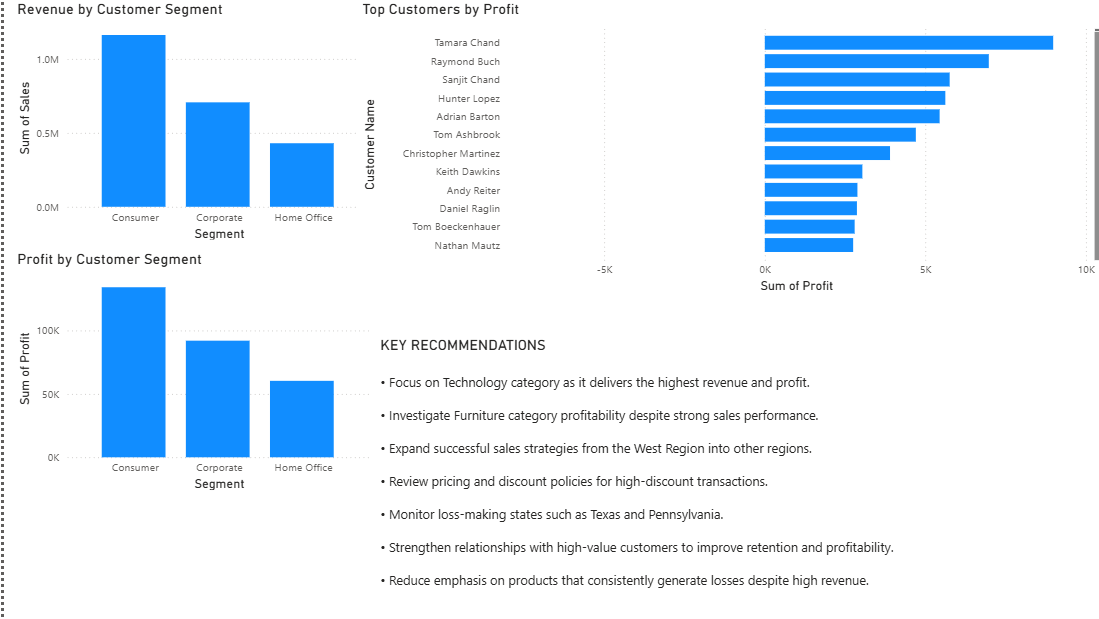

What the dashboard file says about the page in this screenshot:
{"tool":"powerbi","page":{"name":"Customer Insights & Recommendations","canvas":[1280,720],"ordinal":3},"visuals":[{"type":"clusteredColumnChart","title":"Revenue by Customer Segment","fields":{"Category":["superstore_cleaned.Segment"],"Y":["Sum(superstore_cleaned.Sales)"]},"box":[10.7,0,416.1,280.4],"z":0},{"type":"clusteredColumnChart","title":"Profit by Customer Segment","fields":{"Category":["superstore_cleaned.Segment"],"Y":["Sum(superstore_cleaned.Profit)"]},"box":[10.7,287.5,416.1,280.4],"z":1},{"type":"barChart","title":"Top Customers by Profit","fields":{"Category":["superstore_cleaned.Customer Name"],"Y":["Sum(superstore_cleaned.Profit)"]},"box":[406.8,0,859.3,340.7],"z":2},{"type":"textbox","title":"KEY RECOMMENDATIONS","box":[427.1,386.4,820.3,305.1],"z":3}]}

Visuals, with their boxes in screenshot pixels (x1, y1, x2, y2), scaled from the page's 1280x720 canvas onto the 1099x619 screenshot:
"Revenue by Customer Segment" clusteredColumnChart: detection(9, 0, 366, 241)
"Profit by Customer Segment" clusteredColumnChart: detection(9, 247, 366, 488)
"Top Customers by Profit" barChart: detection(349, 0, 1087, 293)
"KEY RECOMMENDATIONS" textbox: detection(367, 332, 1071, 594)
